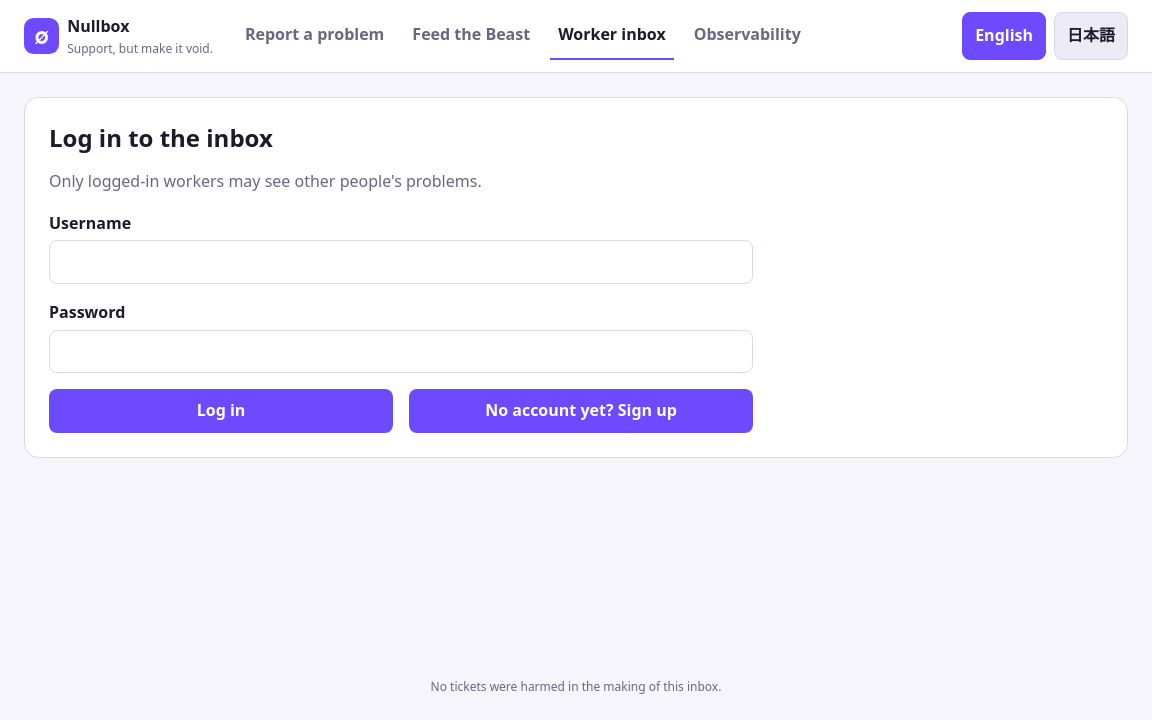
Scenario: RequireWorker › sign up shows the password_leaked message
Click the button "No account yet? Sign up".
click(581, 411)  # box [409,389,753,433]
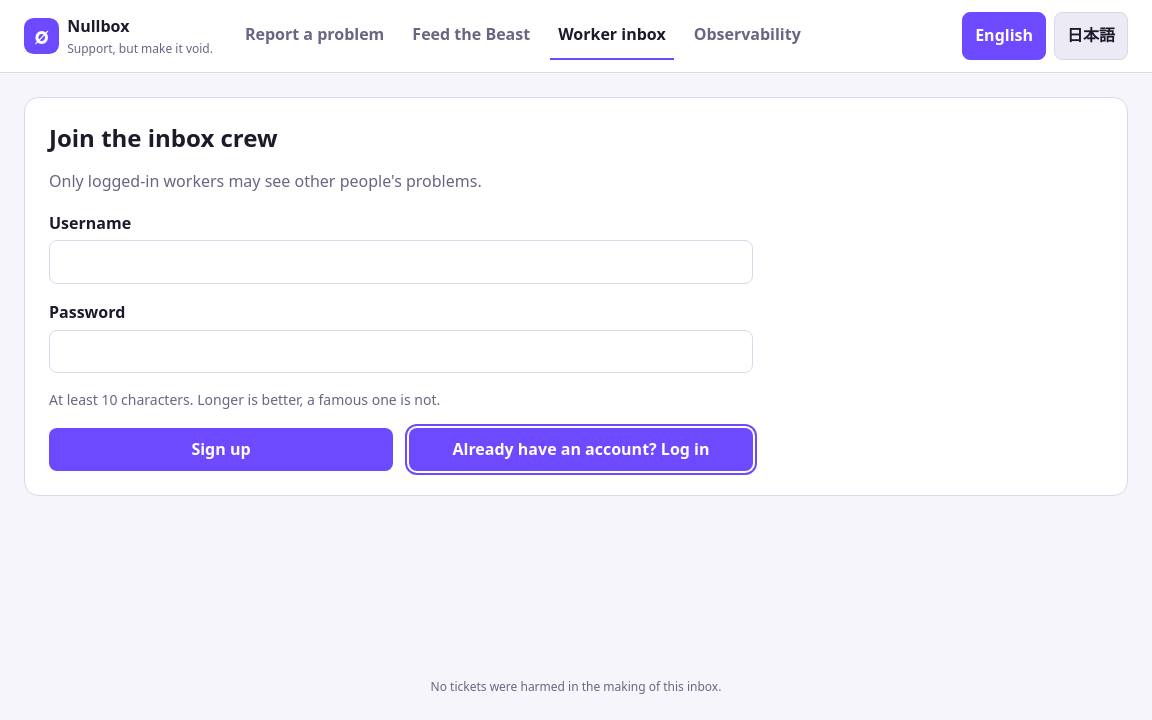
Type "alice" into the field labelled "Username".
click(401, 262); type("alice")  # box [49,240,753,284]
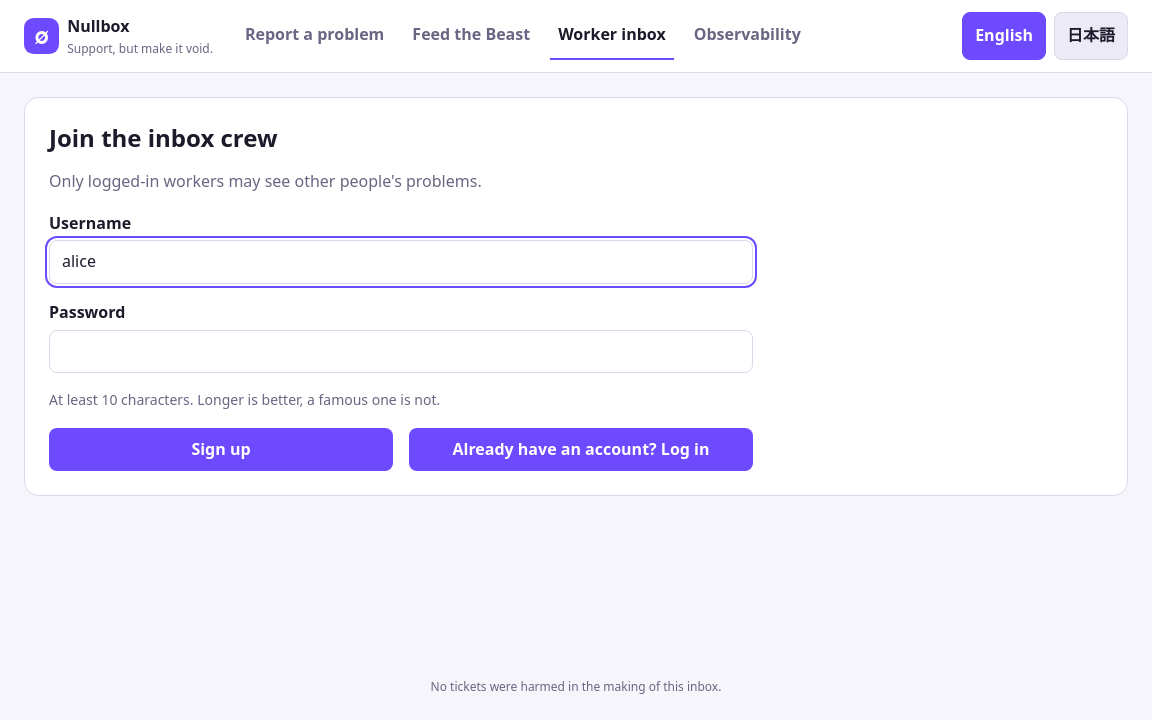
Type "correct horse battery" into the password field labelled "Password".
click(401, 351); type("correct horse battery")  # box [49,330,753,373]
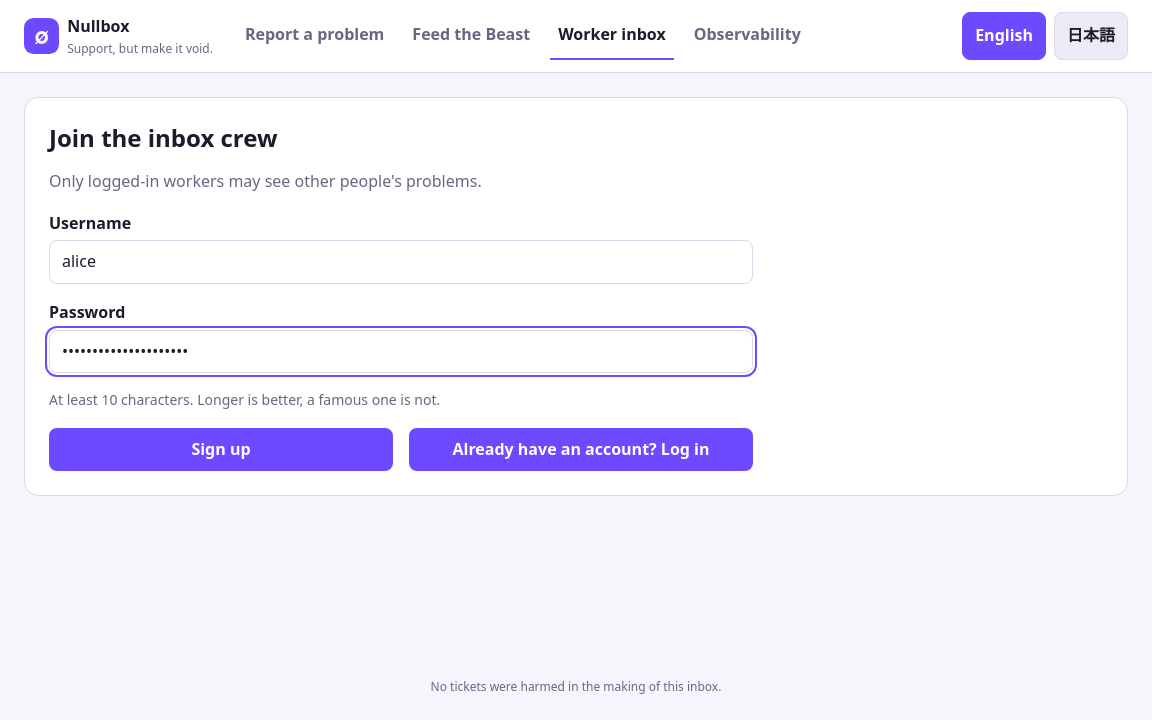
Click the button "Sign up".
click(221, 449)  # box [49,428,393,471]
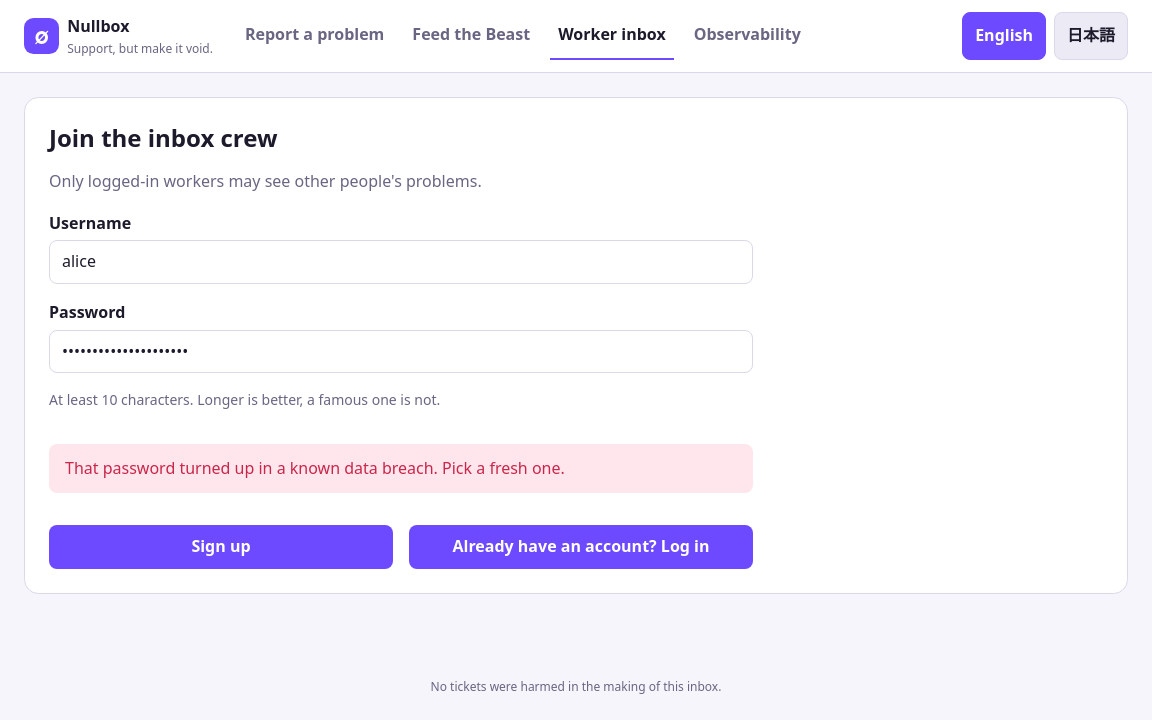
Expected: the message reads "That password turned up in a known data breach. Pick a fresh one.", [65,456,565,478]
